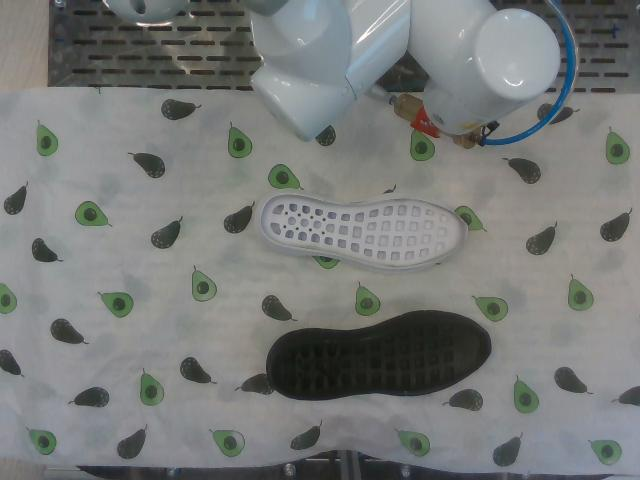shoes: (271, 321, 489, 399), (261, 195, 467, 267)
